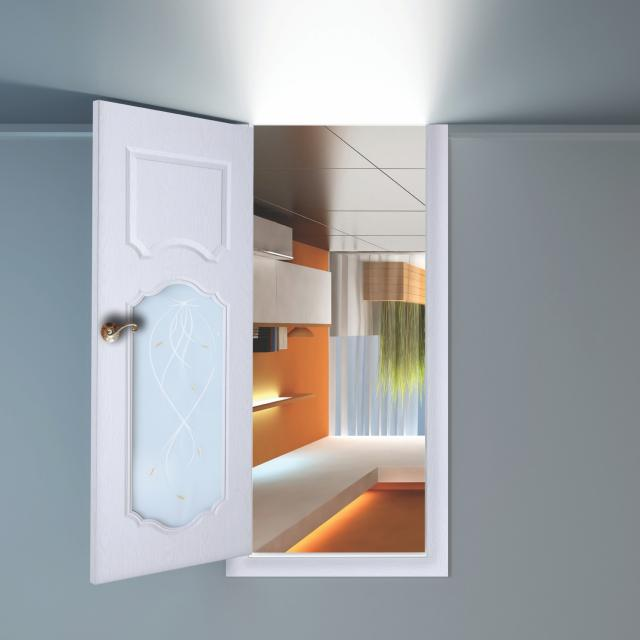open: (90, 116, 448, 578)
